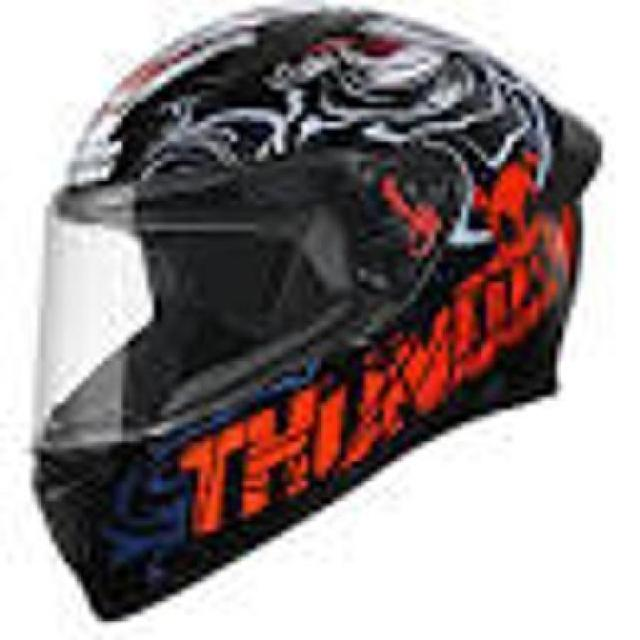not trash: (27, 0, 606, 612)
